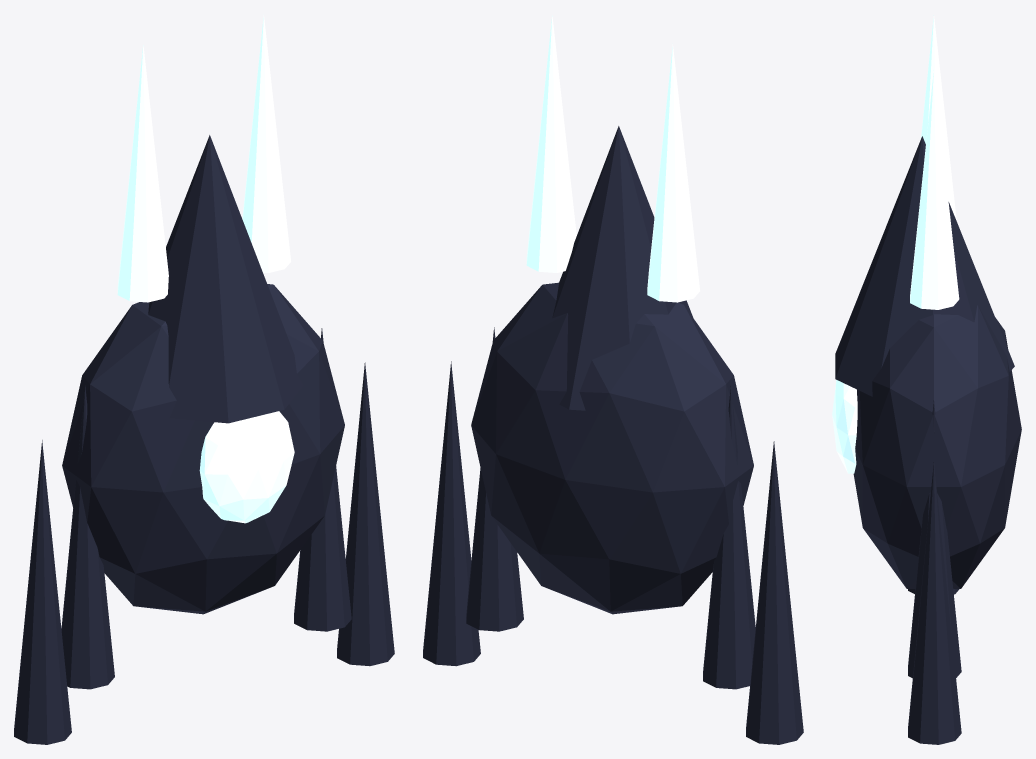
File: rift-creature-3-lod1.glb
3 views of the same model, side by side, from view 1: azimuth 30°, elevation 25°; view 2: azimuth 150°, elevation 25°; view 3: azimuth 270°, elevation 25° (orthographic). The views are drawn at different scales.
Visible parts, largest first — view 1: Body, Head, Claw.-1.1, Claw.1.1, Core, Claw.-1.0, Horn.-1, Horn.1, Claw.1.0; view 2: Body, Head, Claw.-1.1, Claw.1.1, Claw.-1.0, Horn.-1, Horn.1, Claw.1.0; view 3: Body, Head, Claw.1.1, Horn.1, Claw.1.0, Core, Horn.-1.
Boxes of the visible parts, box(x1,y1,x2,y2) form: Body: box(62, 284, 344, 614); Head: box(148, 135, 303, 423); Claw.-1.1: box(14, 440, 71, 744); Claw.1.1: box(337, 362, 394, 666); Core: box(199, 411, 294, 523); Claw.-1.0: box(61, 385, 114, 689); Horn.-1: box(117, 45, 168, 302); Horn.1: box(242, 14, 290, 272); Claw.1.0: box(294, 328, 351, 631); Body: box(471, 282, 753, 614); Head: box(552, 126, 693, 410); Claw.-1.1: box(746, 441, 803, 744); Claw.1.1: box(423, 361, 480, 666); Claw.-1.0: box(703, 386, 755, 689); Horn.-1: box(647, 44, 699, 302); Horn.1: box(526, 15, 576, 272); Claw.1.0: box(466, 327, 523, 631); Body: box(853, 305, 1021, 588); Head: box(835, 136, 1014, 396); Claw.1.1: box(908, 462, 961, 744); Horn.1: box(910, 70, 959, 309); Claw.1.0: box(908, 400, 961, 677); Core: box(832, 380, 857, 473); Horn.-1: box(920, 15, 956, 220).
Bounding box in the file's own units: 1.74 × 2.95 × 0.82.
